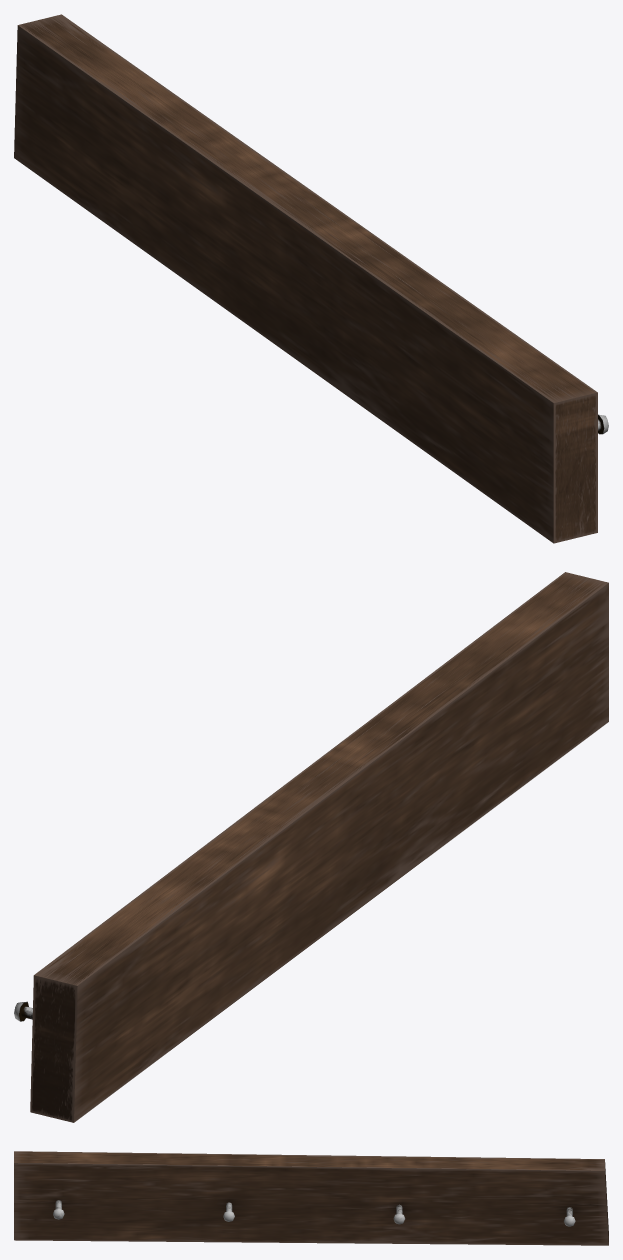
File: hangingRack.glb
The picture shows the model from 3 angles, top to bottom: view 1: azimuth 30°, elevation 25°; view 2: azimuth 150°, elevation 25°; view 3: azimuth 270°, elevation 25°; orthographic projection. The views are drawn at different scales.
Parts seen in each view (by area): view 1: hangingRack; view 2: hangingRack; view 3: hangingRack.
Part boxes in pixels (left/top/right/bottom): hangingRack: left=14, top=14, right=608, bottom=543; hangingRack: left=14, top=572, right=608, bottom=1122; hangingRack: left=14, top=1151, right=608, bottom=1245.
Size of the model in its own units: 0.1058 by 0.1632 by 1.06.
2 materials, 2 textured.
